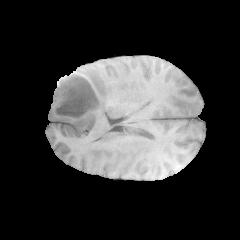glioma: (48, 69, 112, 138)
